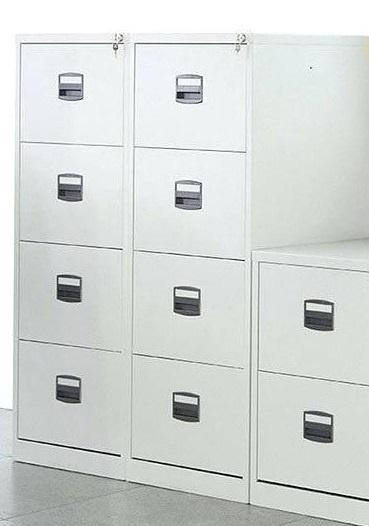cabinet_door: (258, 382, 369, 494), (260, 273, 369, 383), (132, 360, 244, 463), (134, 261, 244, 361), (134, 155, 243, 255), (135, 49, 245, 148), (19, 346, 127, 442), (20, 251, 123, 348), (21, 146, 123, 243), (24, 48, 123, 144), (0, 411, 13, 458)
handle: (170, 298, 202, 318), (302, 312, 334, 330), (302, 425, 334, 442), (173, 192, 203, 209), (175, 88, 205, 103), (171, 406, 199, 422), (55, 187, 84, 202), (53, 288, 83, 302), (55, 388, 81, 403), (58, 87, 83, 101)
